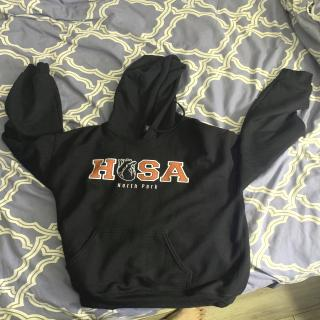HOSA hoodie: (0, 51, 316, 312)
